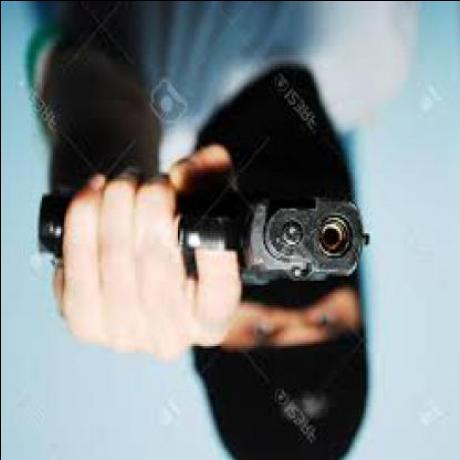1: (43, 0, 423, 460)
weapon: (24, 181, 404, 294)
